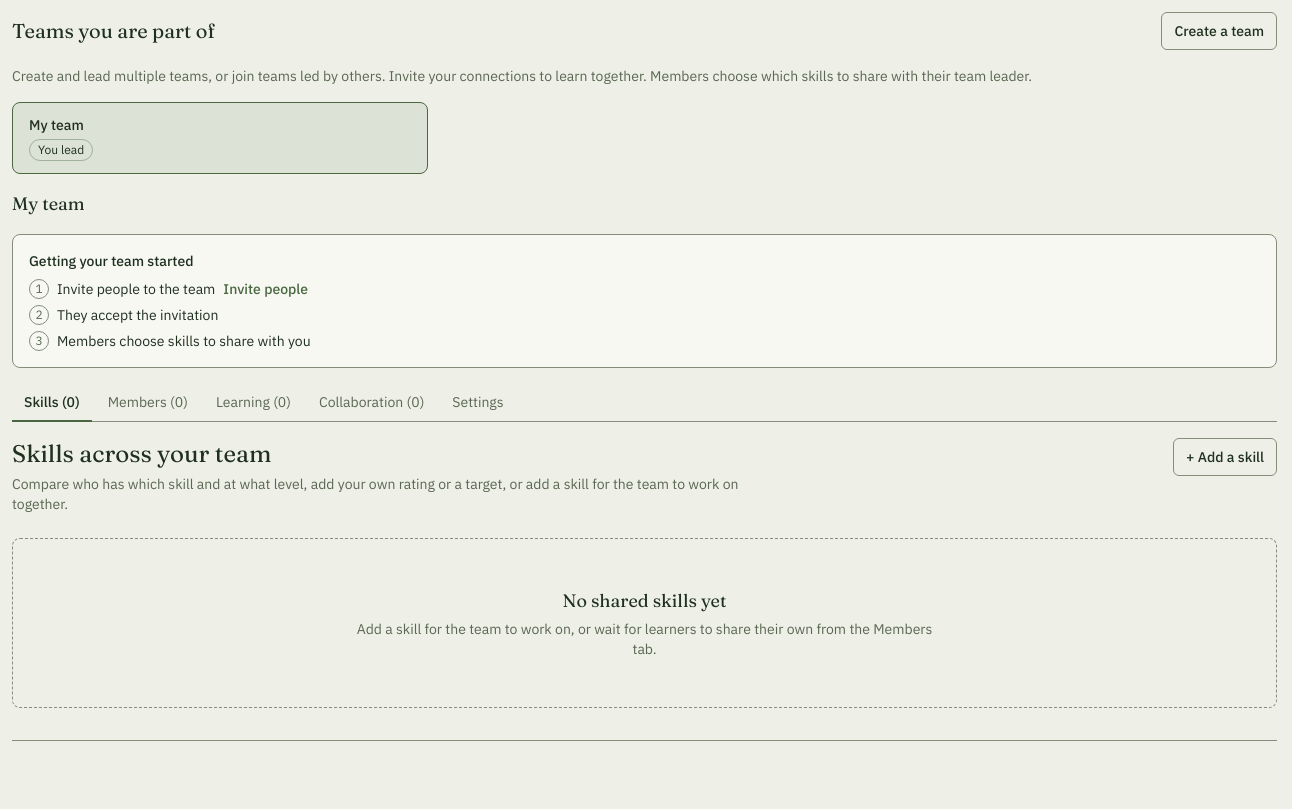
Scenario: Connections teams › lets a leader rename a team and add a description from Settings
Step 1. Click the tab "Settings" → (478, 403), box [440,384,516,422]
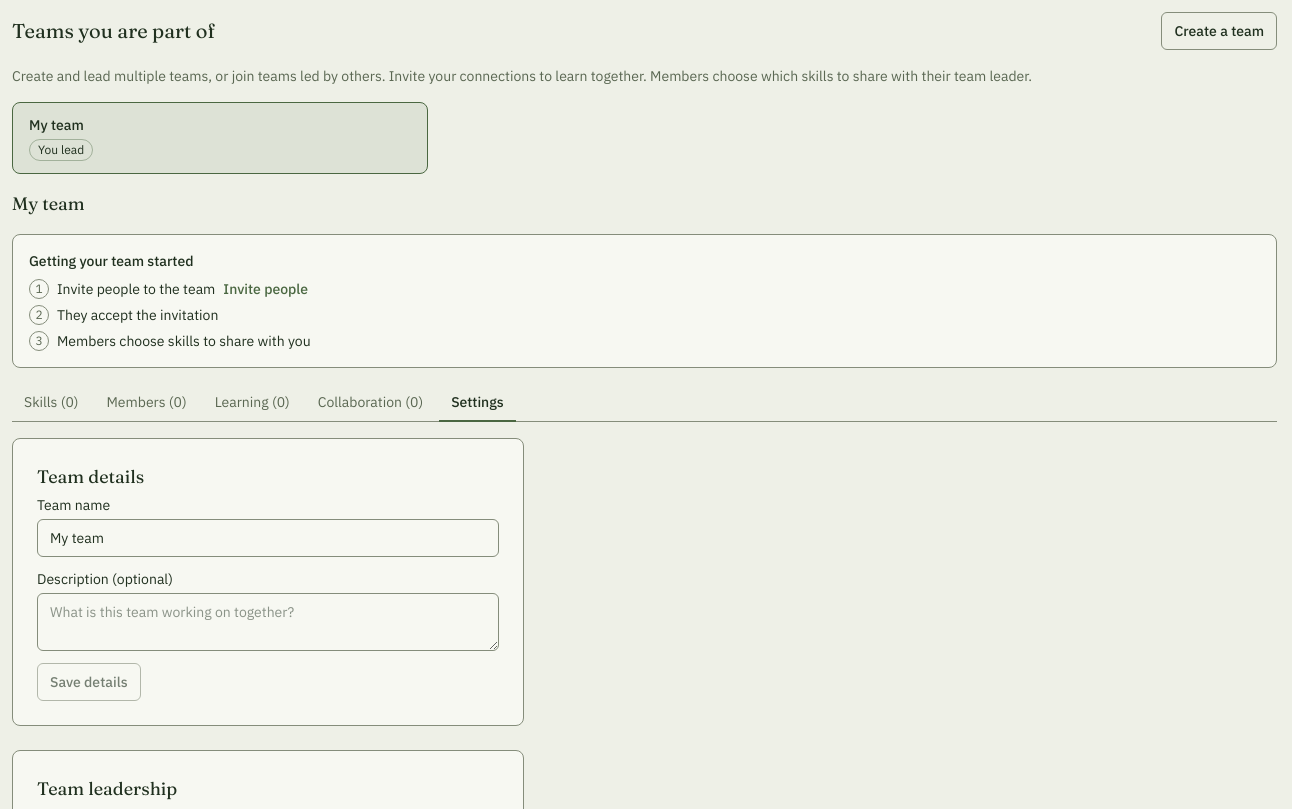
Expected: the field labelled "Team name" holds "My team"
Expected: the button "Save details" is disabled, [37,663,141,701]
Step 2. Replace the text in the field labelled "Team name" with "Design crew" → (268, 538), box [37,519,499,557]
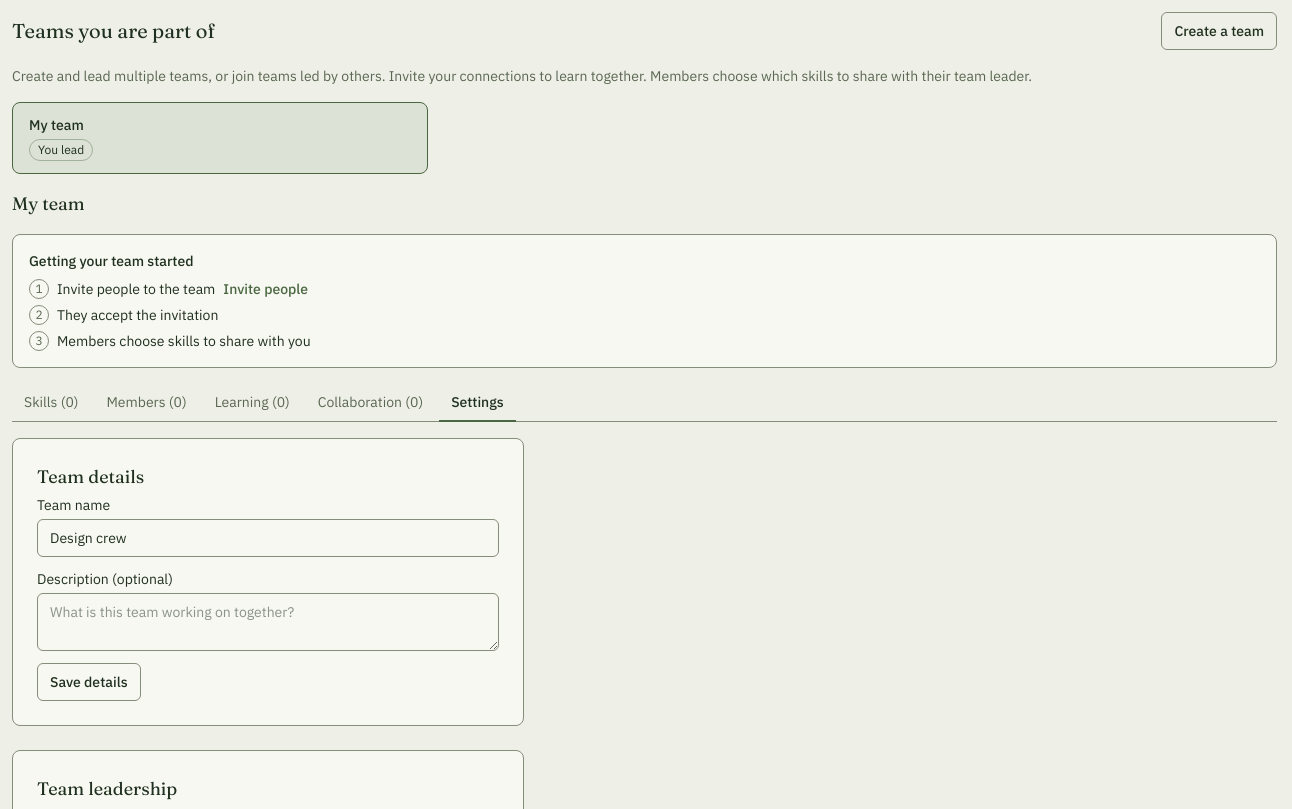
Step 3. Type "Getting better at research" into the text box labelled "Description (optional)" → (268, 622), box [37,593,499,651]
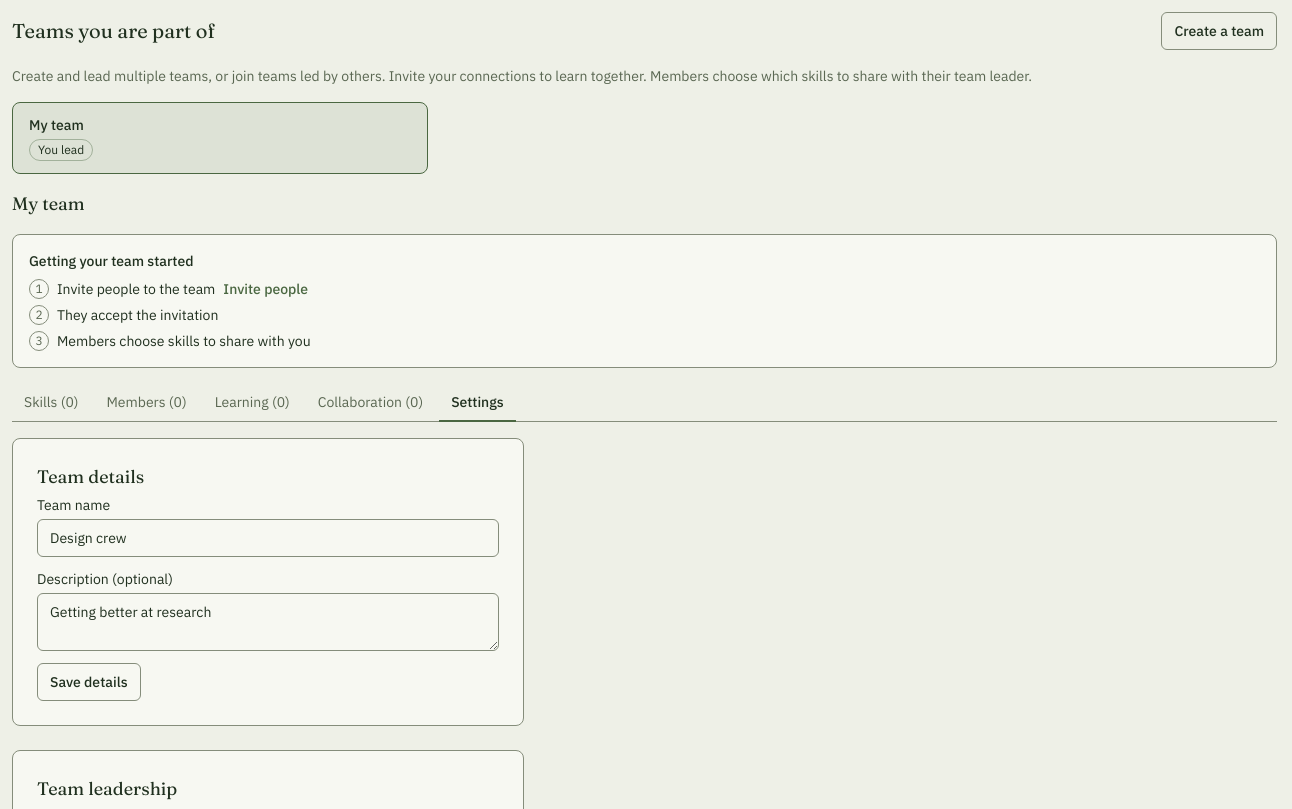
Step 4. Click the button "Save details" → (89, 682), box [37,663,141,701]
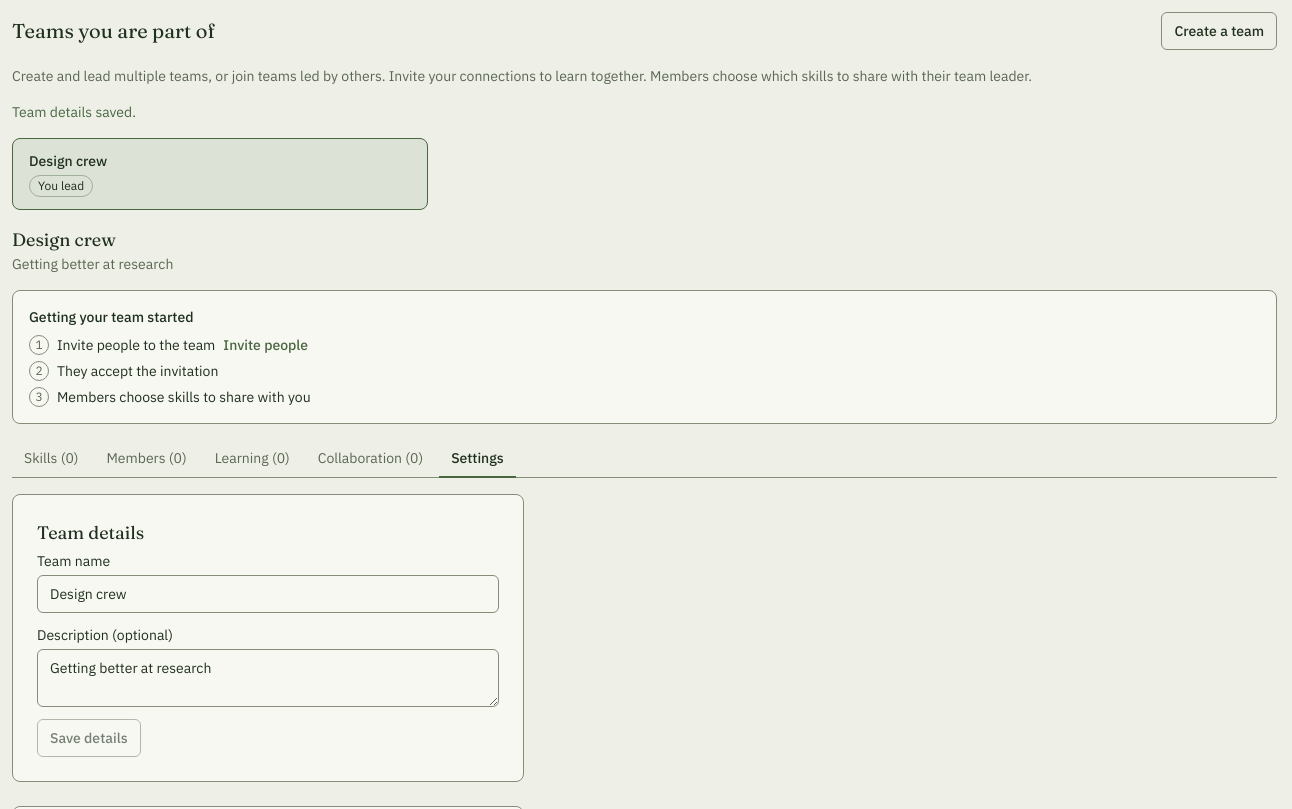
Expected: the heading "Design crew" is shown, [12,228,116,251]
Expected: the text "Getting better at research" is shown, [12,255,173,273]
